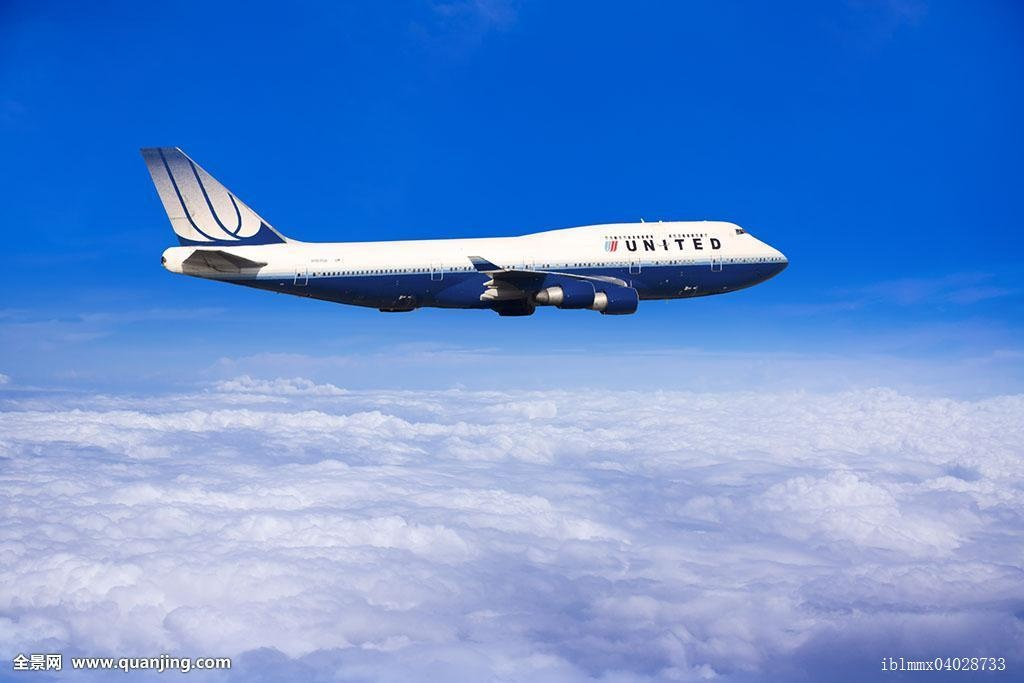airplane: (126, 141, 790, 318)
